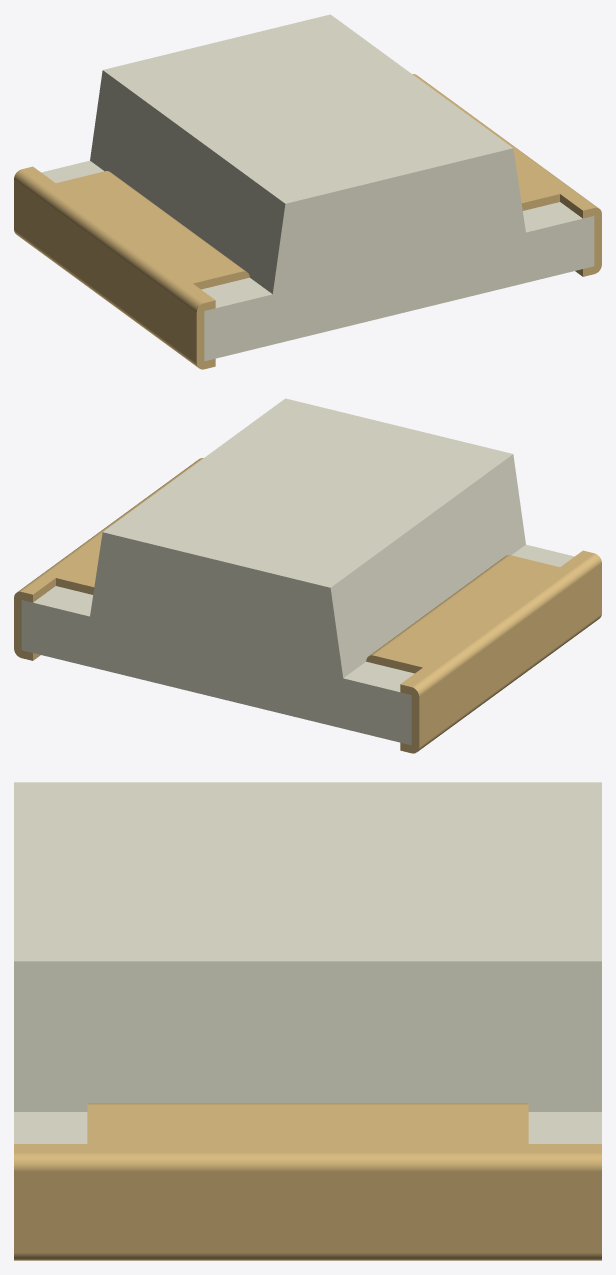
Rendered from LED_1210_3225Metric.glb.
3 renders of one model, top to bottom at view 1: azimuth 30°, elevation 25°; view 2: azimuth 150°, elevation 25°; view 3: azimuth 270°, elevation 25°, orthographic. The views are drawn at different scales.
Visible parts, largest first — view 1: =>[0:1:1:3]; view 2: =>[0:1:1:3]; view 3: =>[0:1:1:3].
Boxes of the visible parts, left/top/right/bottom form: =>[0:1:1:3]: left=14, top=14, right=601, bottom=369; =>[0:1:1:3]: left=14, top=398, right=601, bottom=753; =>[0:1:1:3]: left=14, top=782, right=601, bottom=1260.
Bounding box in the file's own units: 0.0032 × 0.0011 × 0.0025.
